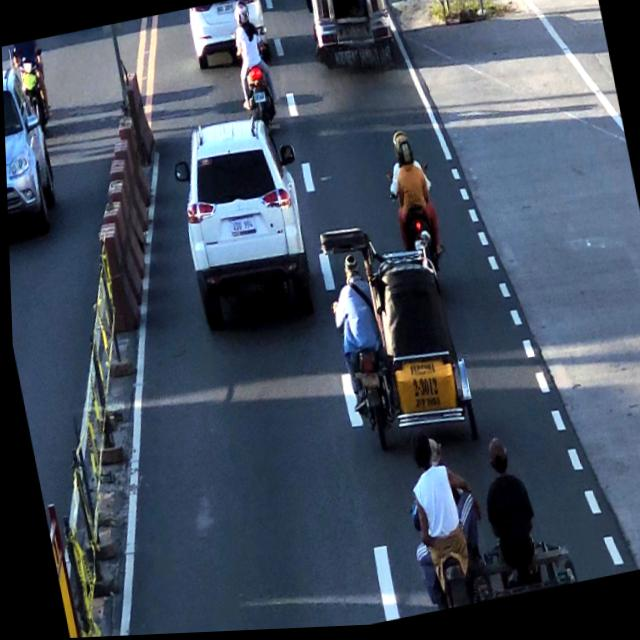Car: (168, 111, 312, 341)
Jeep: (304, 0, 405, 81)
License-Plate: (228, 216, 257, 241), (352, 371, 379, 394), (213, 2, 234, 18), (251, 91, 268, 107)
Motorcycle: (378, 122, 444, 243), (228, 3, 276, 121)
Tricycle: (395, 416, 574, 617), (317, 209, 471, 439)
